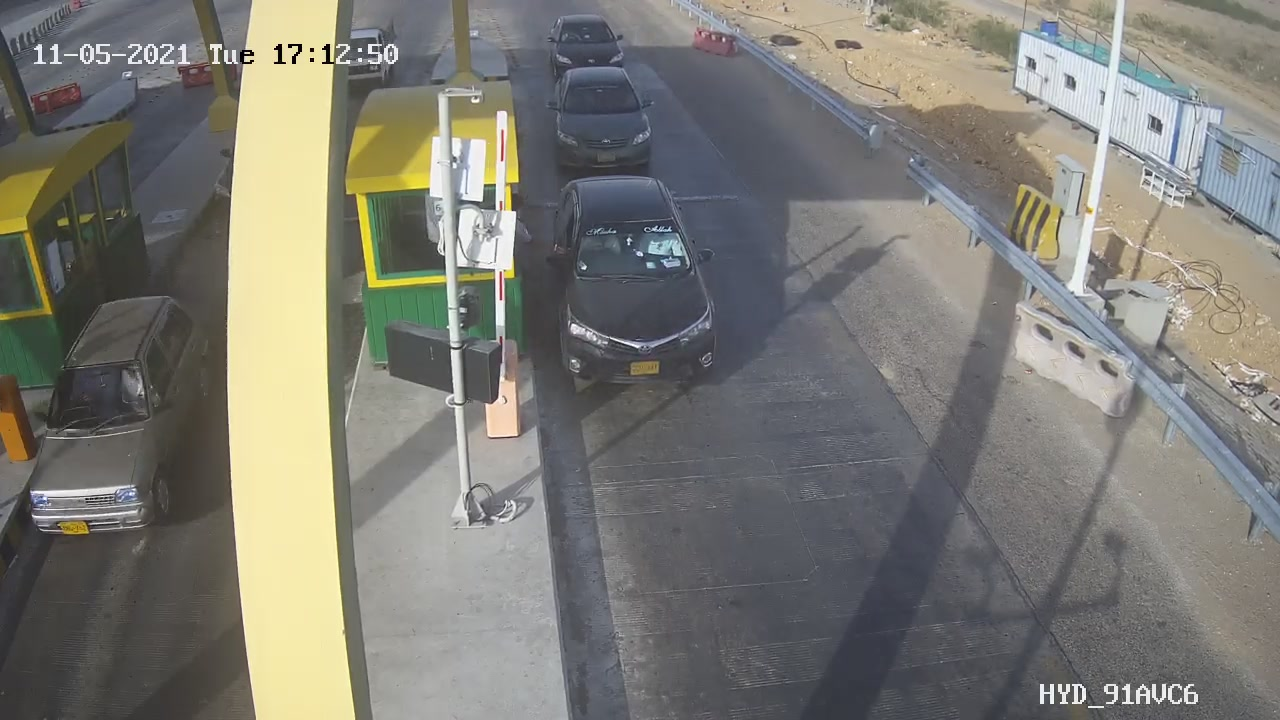F1: (530, 164, 744, 409), (535, 55, 668, 179)
